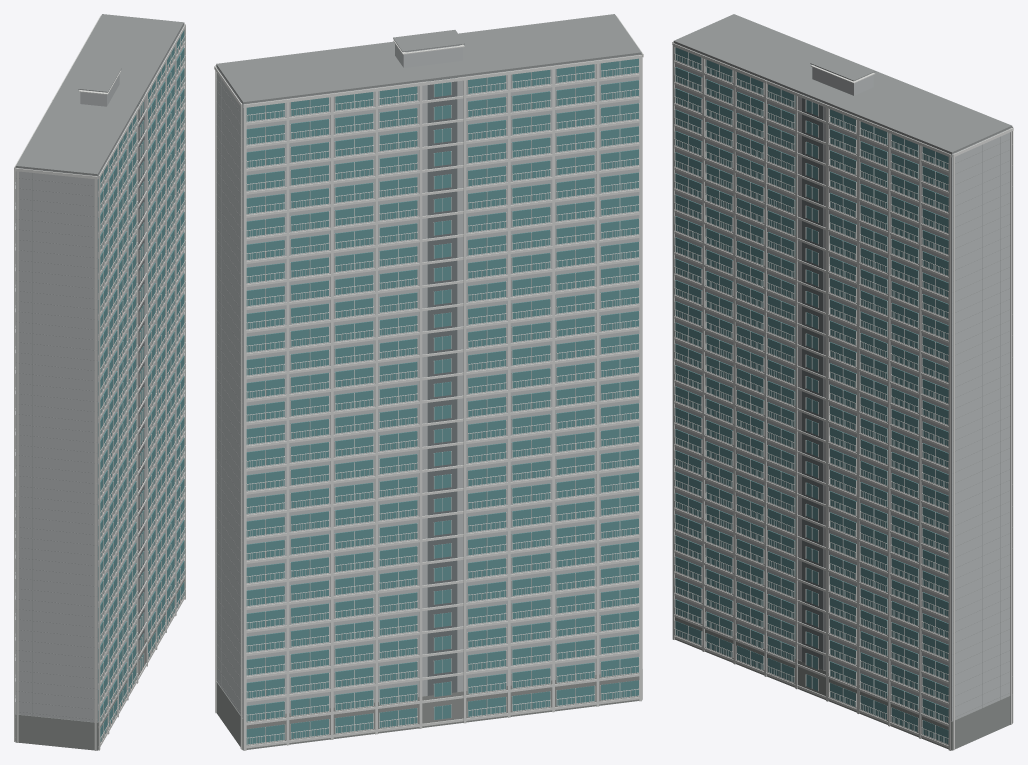
File: bespoke-jamsil-ricenz-235.glb
3 views of the same model, side by side, from view 1: azimuth 30°, elevation 25°; view 2: azimuth 150°, elevation 25°; view 3: azimuth 270°, elevation 25° (orthographic). The views are drawn at different scales.
Parts seen in each view (by area): view 1: Ricenz235_editable_Ricenz235_light_grey_solid_wall, Ricenz235_editable_Ricenz235_turquoise_balcony_glazing, Ricenz235_editable_Ricenz235_modest_grey_flat_roof_caps, Ricenz235_white_exact_chunk_3, Ricenz235_white_exact_chunk_0, Ricenz235_white_exact_chunk_1, Ricenz235_white_exact_chunk_2, Ricenz235_editable_Ricenz235_muted_ground_wall, Ricenz235_editable_Ricenz235_narrow_charcoal_service_strips, Ricenz235_white_exact_chunk_6; view 2: Ricenz235_editable_Ricenz235_turquoise_balcony_glazing, Ricenz235_editable_Ricenz235_light_grey_solid_wall, Ricenz235_white_exact_chunk_6, Ricenz235_white_exact_chunk_5, Ricenz235_white_exact_chunk_4, Ricenz235_white_exact_chunk_3, Ricenz235_editable_Ricenz235_modest_grey_flat_roof_caps, Ricenz235_editable_Ricenz235_narrow_charcoal_service_strips, Ricenz235_editable_Ricenz235_muted_ground_wall, Ricenz235_white_exact_chunk_0; view 3: Ricenz235_editable_Ricenz235_turquoise_balcony_glazing, Ricenz235_editable_Ricenz235_light_grey_solid_wall, Ricenz235_white_exact_chunk_3, Ricenz235_white_exact_chunk_1, Ricenz235_white_exact_chunk_0, Ricenz235_white_exact_chunk_2, Ricenz235_editable_Ricenz235_modest_grey_flat_roof_caps, Ricenz235_editable_Ricenz235_narrow_charcoal_service_strips, Ricenz235_editable_Ricenz235_muted_ground_wall, Ricenz235_white_exact_chunk_6.
Part boxes in pixels (x1,y1,x2,y2): Ricenz235_editable_Ricenz235_light_grey_solid_wall: [15, 24, 184, 722]; Ricenz235_editable_Ricenz235_turquoise_balcony_glazing: [98, 30, 184, 741]; Ricenz235_editable_Ricenz235_modest_grey_flat_roof_caps: [15, 14, 184, 719]; Ricenz235_white_exact_chunk_3: [98, 23, 185, 750]; Ricenz235_white_exact_chunk_0: [15, 147, 127, 750]; Ricenz235_white_exact_chunk_1: [119, 100, 156, 696]; Ricenz235_white_exact_chunk_2: [148, 46, 185, 646]; Ricenz235_editable_Ricenz235_muted_ground_wall: [15, 575, 184, 750]; Ricenz235_editable_Ricenz235_narrow_charcoal_service_strips: [137, 94, 144, 651]; Ricenz235_white_exact_chunk_6: [14, 15, 120, 741]; Ricenz235_editable_Ricenz235_turquoise_balcony_glazing: [246, 58, 638, 744]; Ricenz235_editable_Ricenz235_light_grey_solid_wall: [216, 44, 641, 718]; Ricenz235_white_exact_chunk_6: [243, 40, 642, 750]; Ricenz235_white_exact_chunk_5: [422, 69, 596, 726]; Ricenz235_white_exact_chunk_4: [289, 86, 451, 737]; Ricenz235_white_exact_chunk_3: [214, 65, 330, 749]; Ricenz235_editable_Ricenz235_modest_grey_flat_roof_caps: [216, 14, 641, 712]; Ricenz235_editable_Ricenz235_narrow_charcoal_service_strips: [427, 77, 457, 695]; Ricenz235_editable_Ricenz235_muted_ground_wall: [216, 669, 642, 750]; Ricenz235_white_exact_chunk_0: [616, 15, 643, 699]; Ricenz235_editable_Ricenz235_turquoise_balcony_glazing: [675, 47, 948, 743]; Ricenz235_editable_Ricenz235_light_grey_solid_wall: [674, 43, 1012, 721]; Ricenz235_white_exact_chunk_3: [672, 43, 1013, 750]; Ricenz235_white_exact_chunk_1: [735, 72, 856, 711]; Ricenz235_white_exact_chunk_0: [672, 41, 764, 673]; Ricenz235_white_exact_chunk_2: [828, 109, 948, 747]; Ricenz235_editable_Ricenz235_modest_grey_flat_roof_caps: [673, 14, 1012, 717]; Ricenz235_editable_Ricenz235_narrow_charcoal_service_strips: [802, 94, 823, 669]; Ricenz235_editable_Ricenz235_muted_ground_wall: [675, 614, 1012, 750]; Ricenz235_white_exact_chunk_6: [811, 65, 1013, 722].
Bounding box in the file's own units: 41.68 × 85.53 × 43.05.
